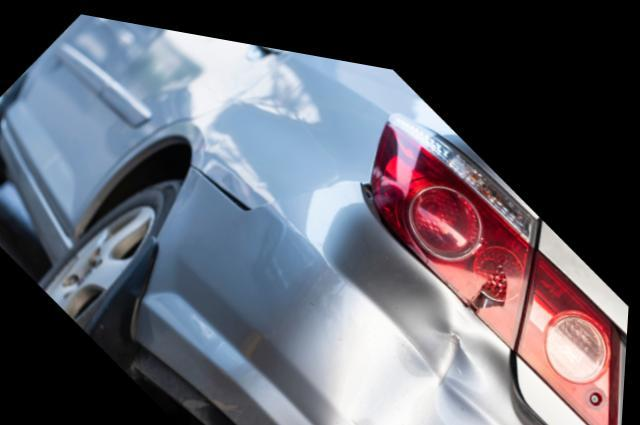dent: (334, 255, 515, 425)
dislocated part: (157, 157, 392, 242)
lamp broken: (369, 96, 540, 331)
